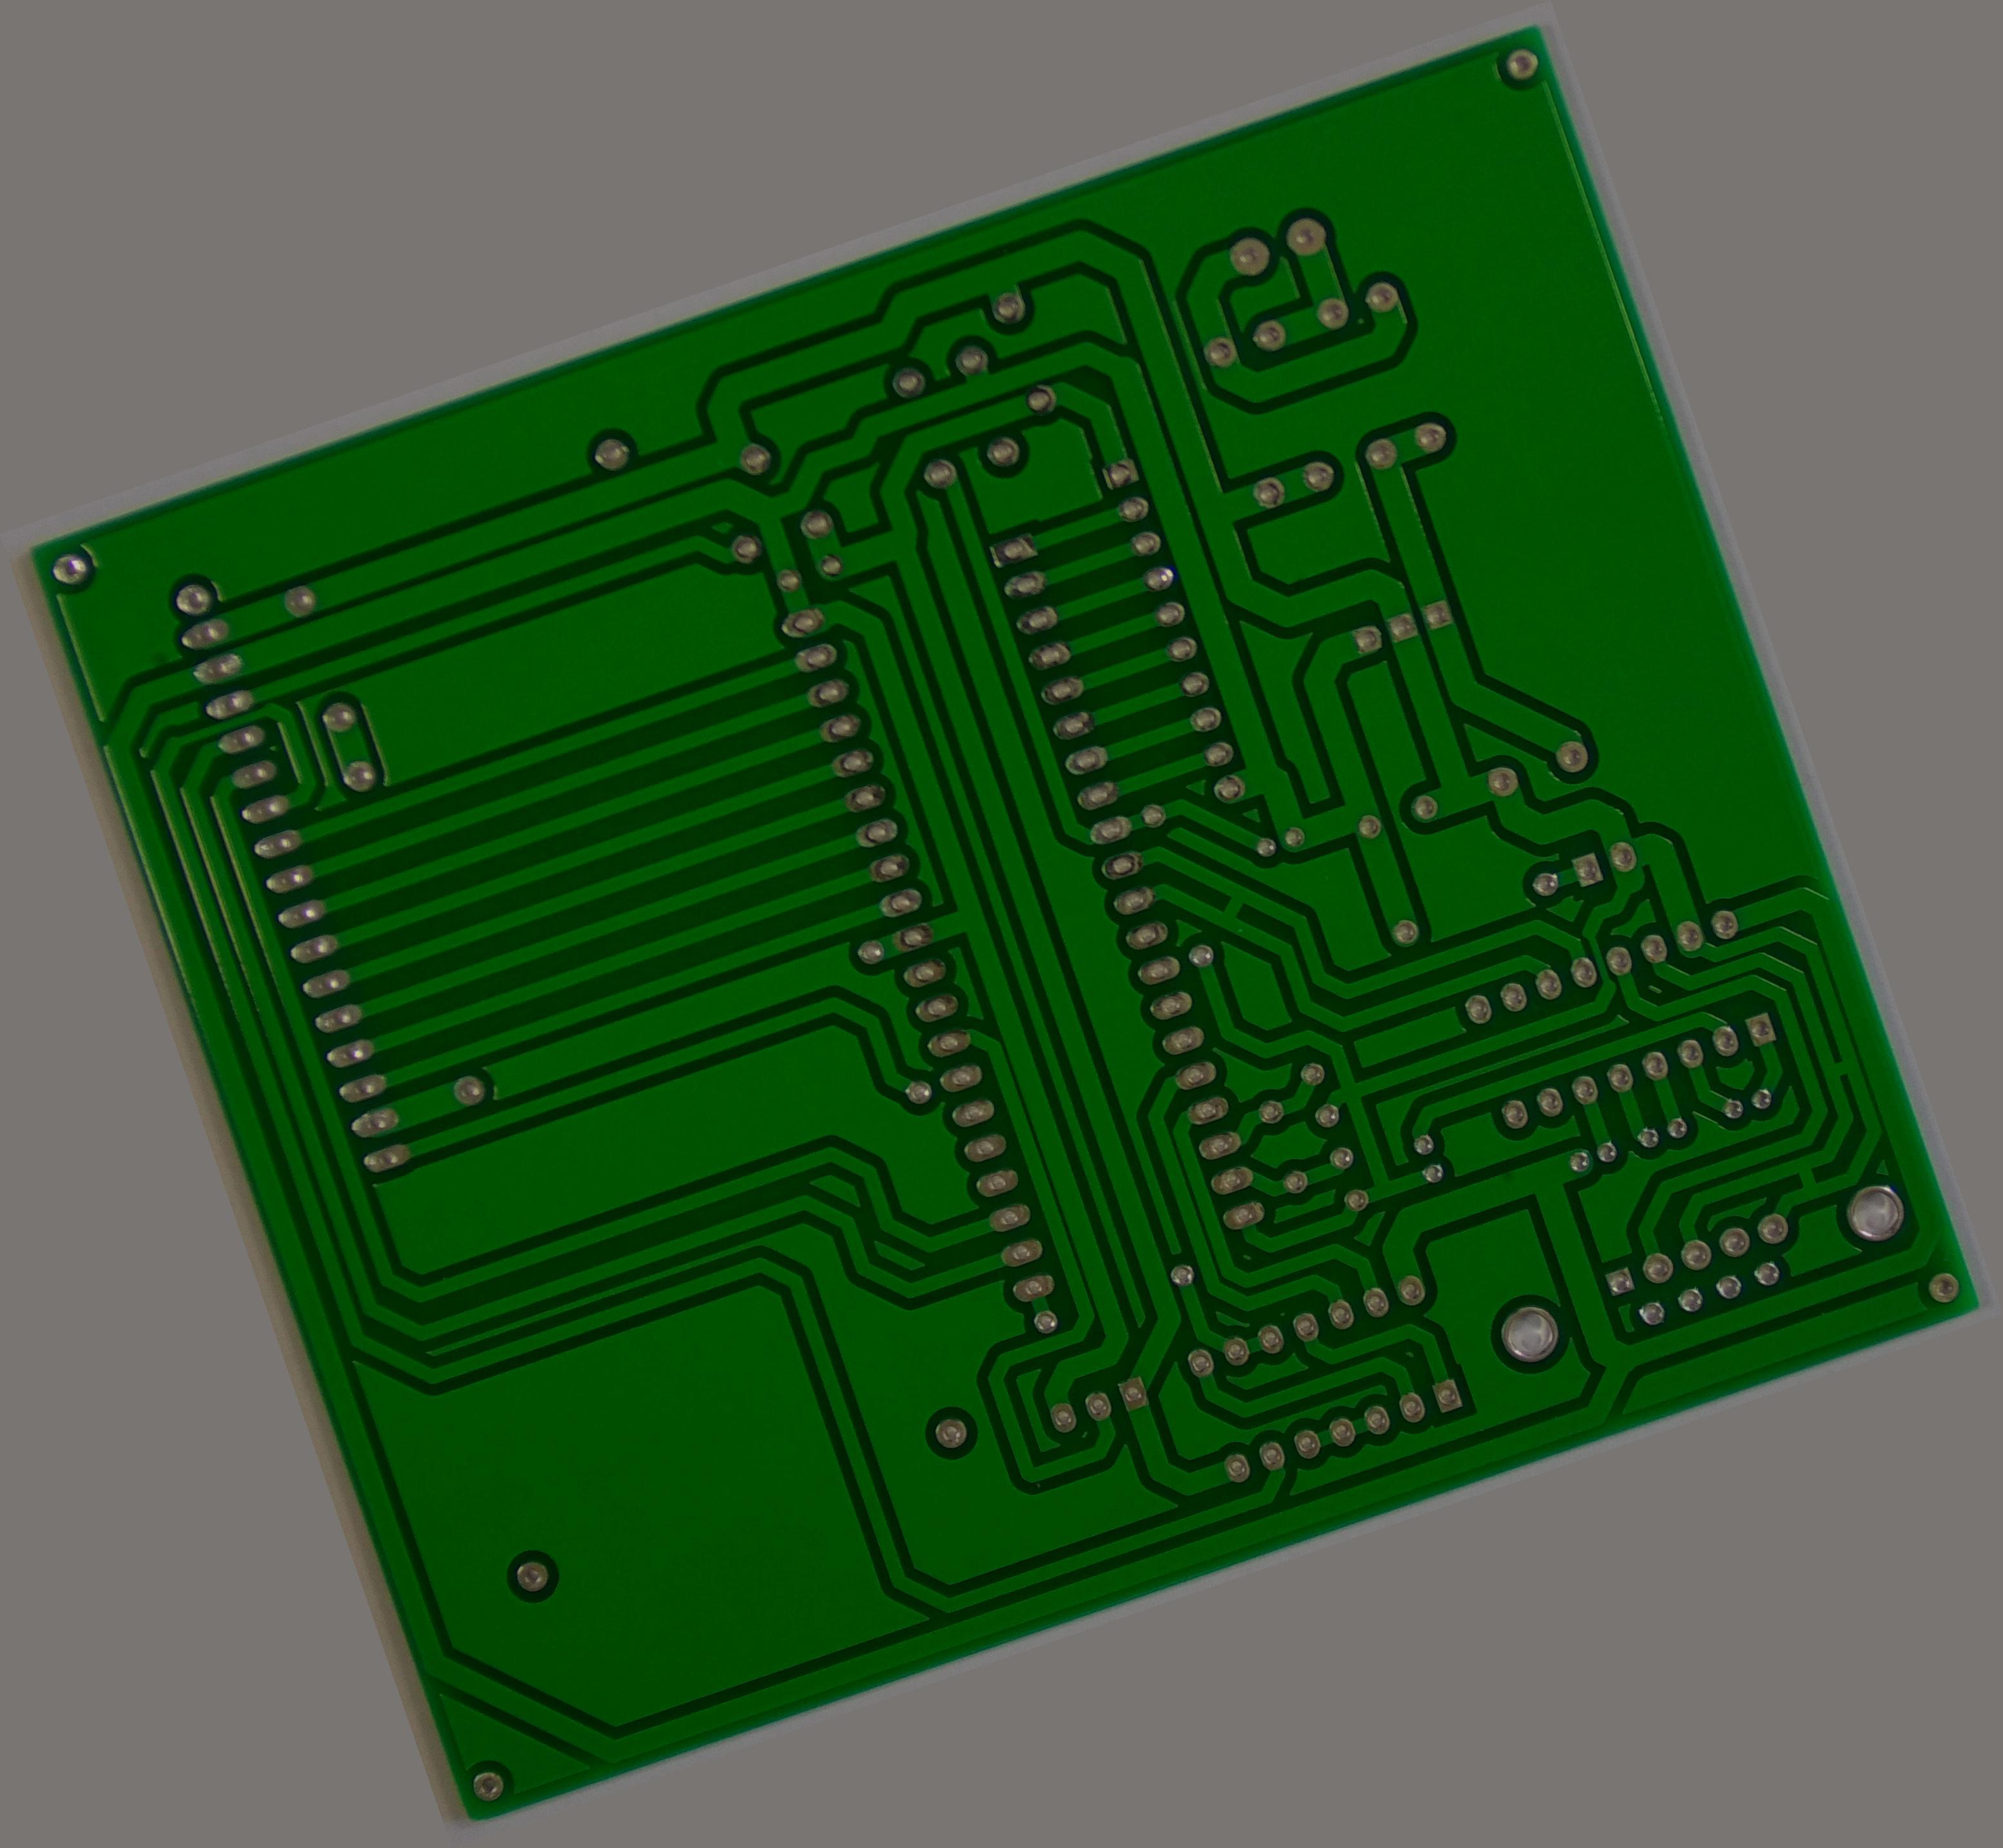short: (1773, 1145, 1837, 1208), (1199, 878, 1265, 937), (1815, 1044, 1863, 1091)
